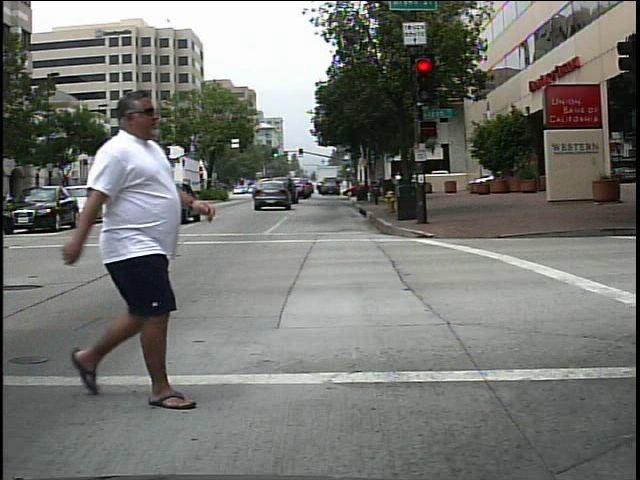person: (40, 86, 207, 410)
